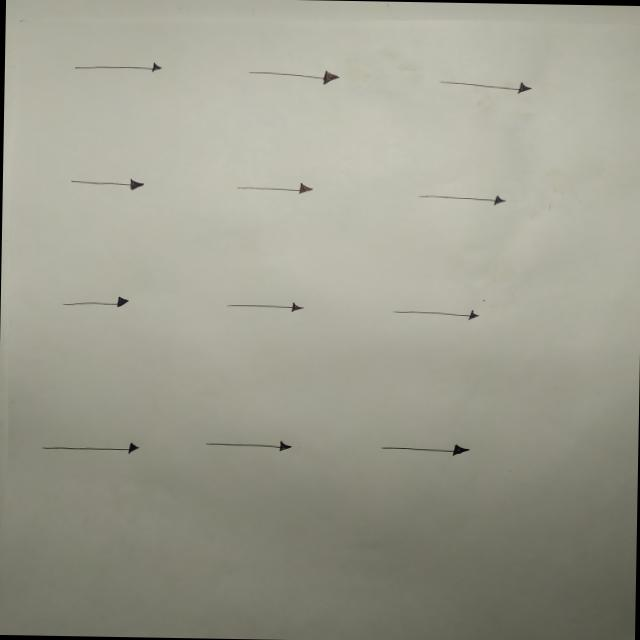arrow_line_up: (113, 221, 165, 321), (116, 95, 158, 202), (462, 351, 505, 451), (79, 462, 120, 558), (474, 477, 516, 567), (294, 228, 330, 314), (482, 116, 522, 192), (316, 112, 353, 192), (98, 354, 130, 444), (293, 366, 329, 446), (472, 233, 505, 310), (294, 471, 320, 568)
